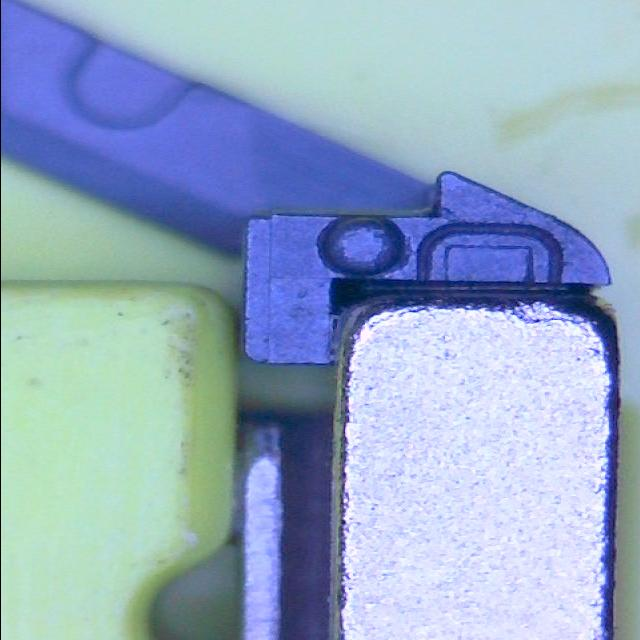lacking: (411, 220, 565, 290)
